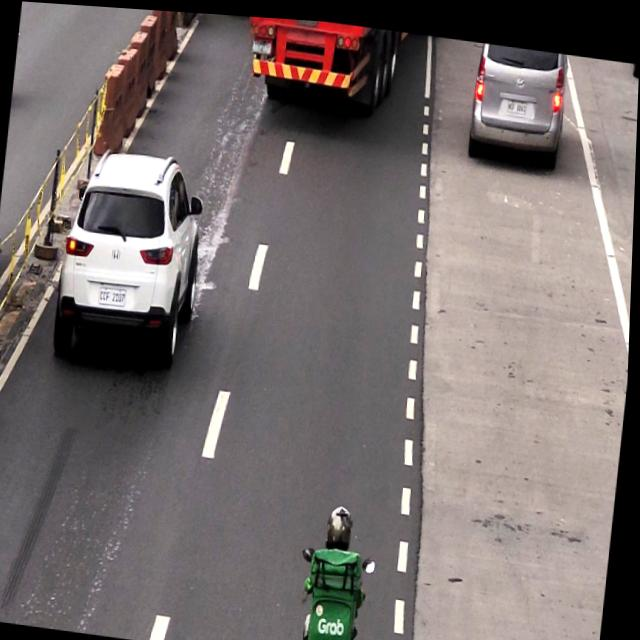Car: (53, 143, 210, 367), (465, 35, 571, 161)
License-Plate: (99, 283, 129, 305), (507, 91, 529, 109)
Motorcycle: (301, 493, 380, 640)
